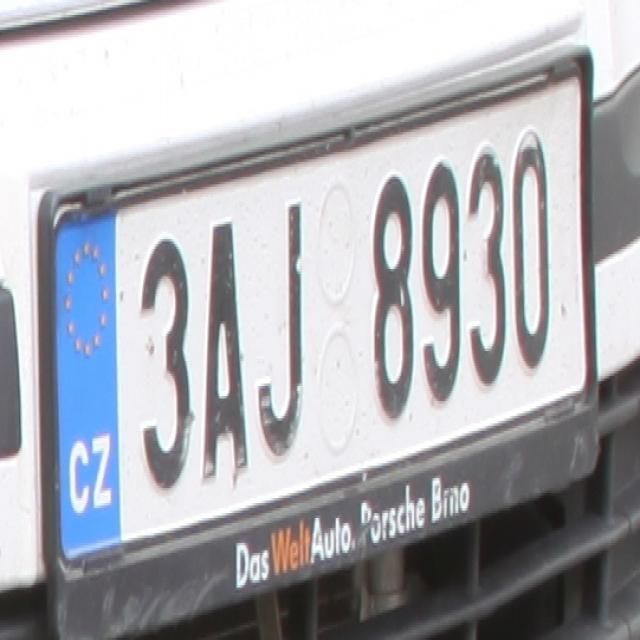0: (512, 124, 552, 368)
3: (140, 239, 190, 493), (466, 137, 505, 391)
8: (373, 172, 414, 421)
9: (421, 159, 460, 401)
A: (201, 222, 250, 483)
